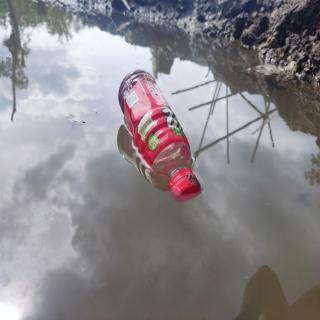bottle: (118, 67, 206, 206)
